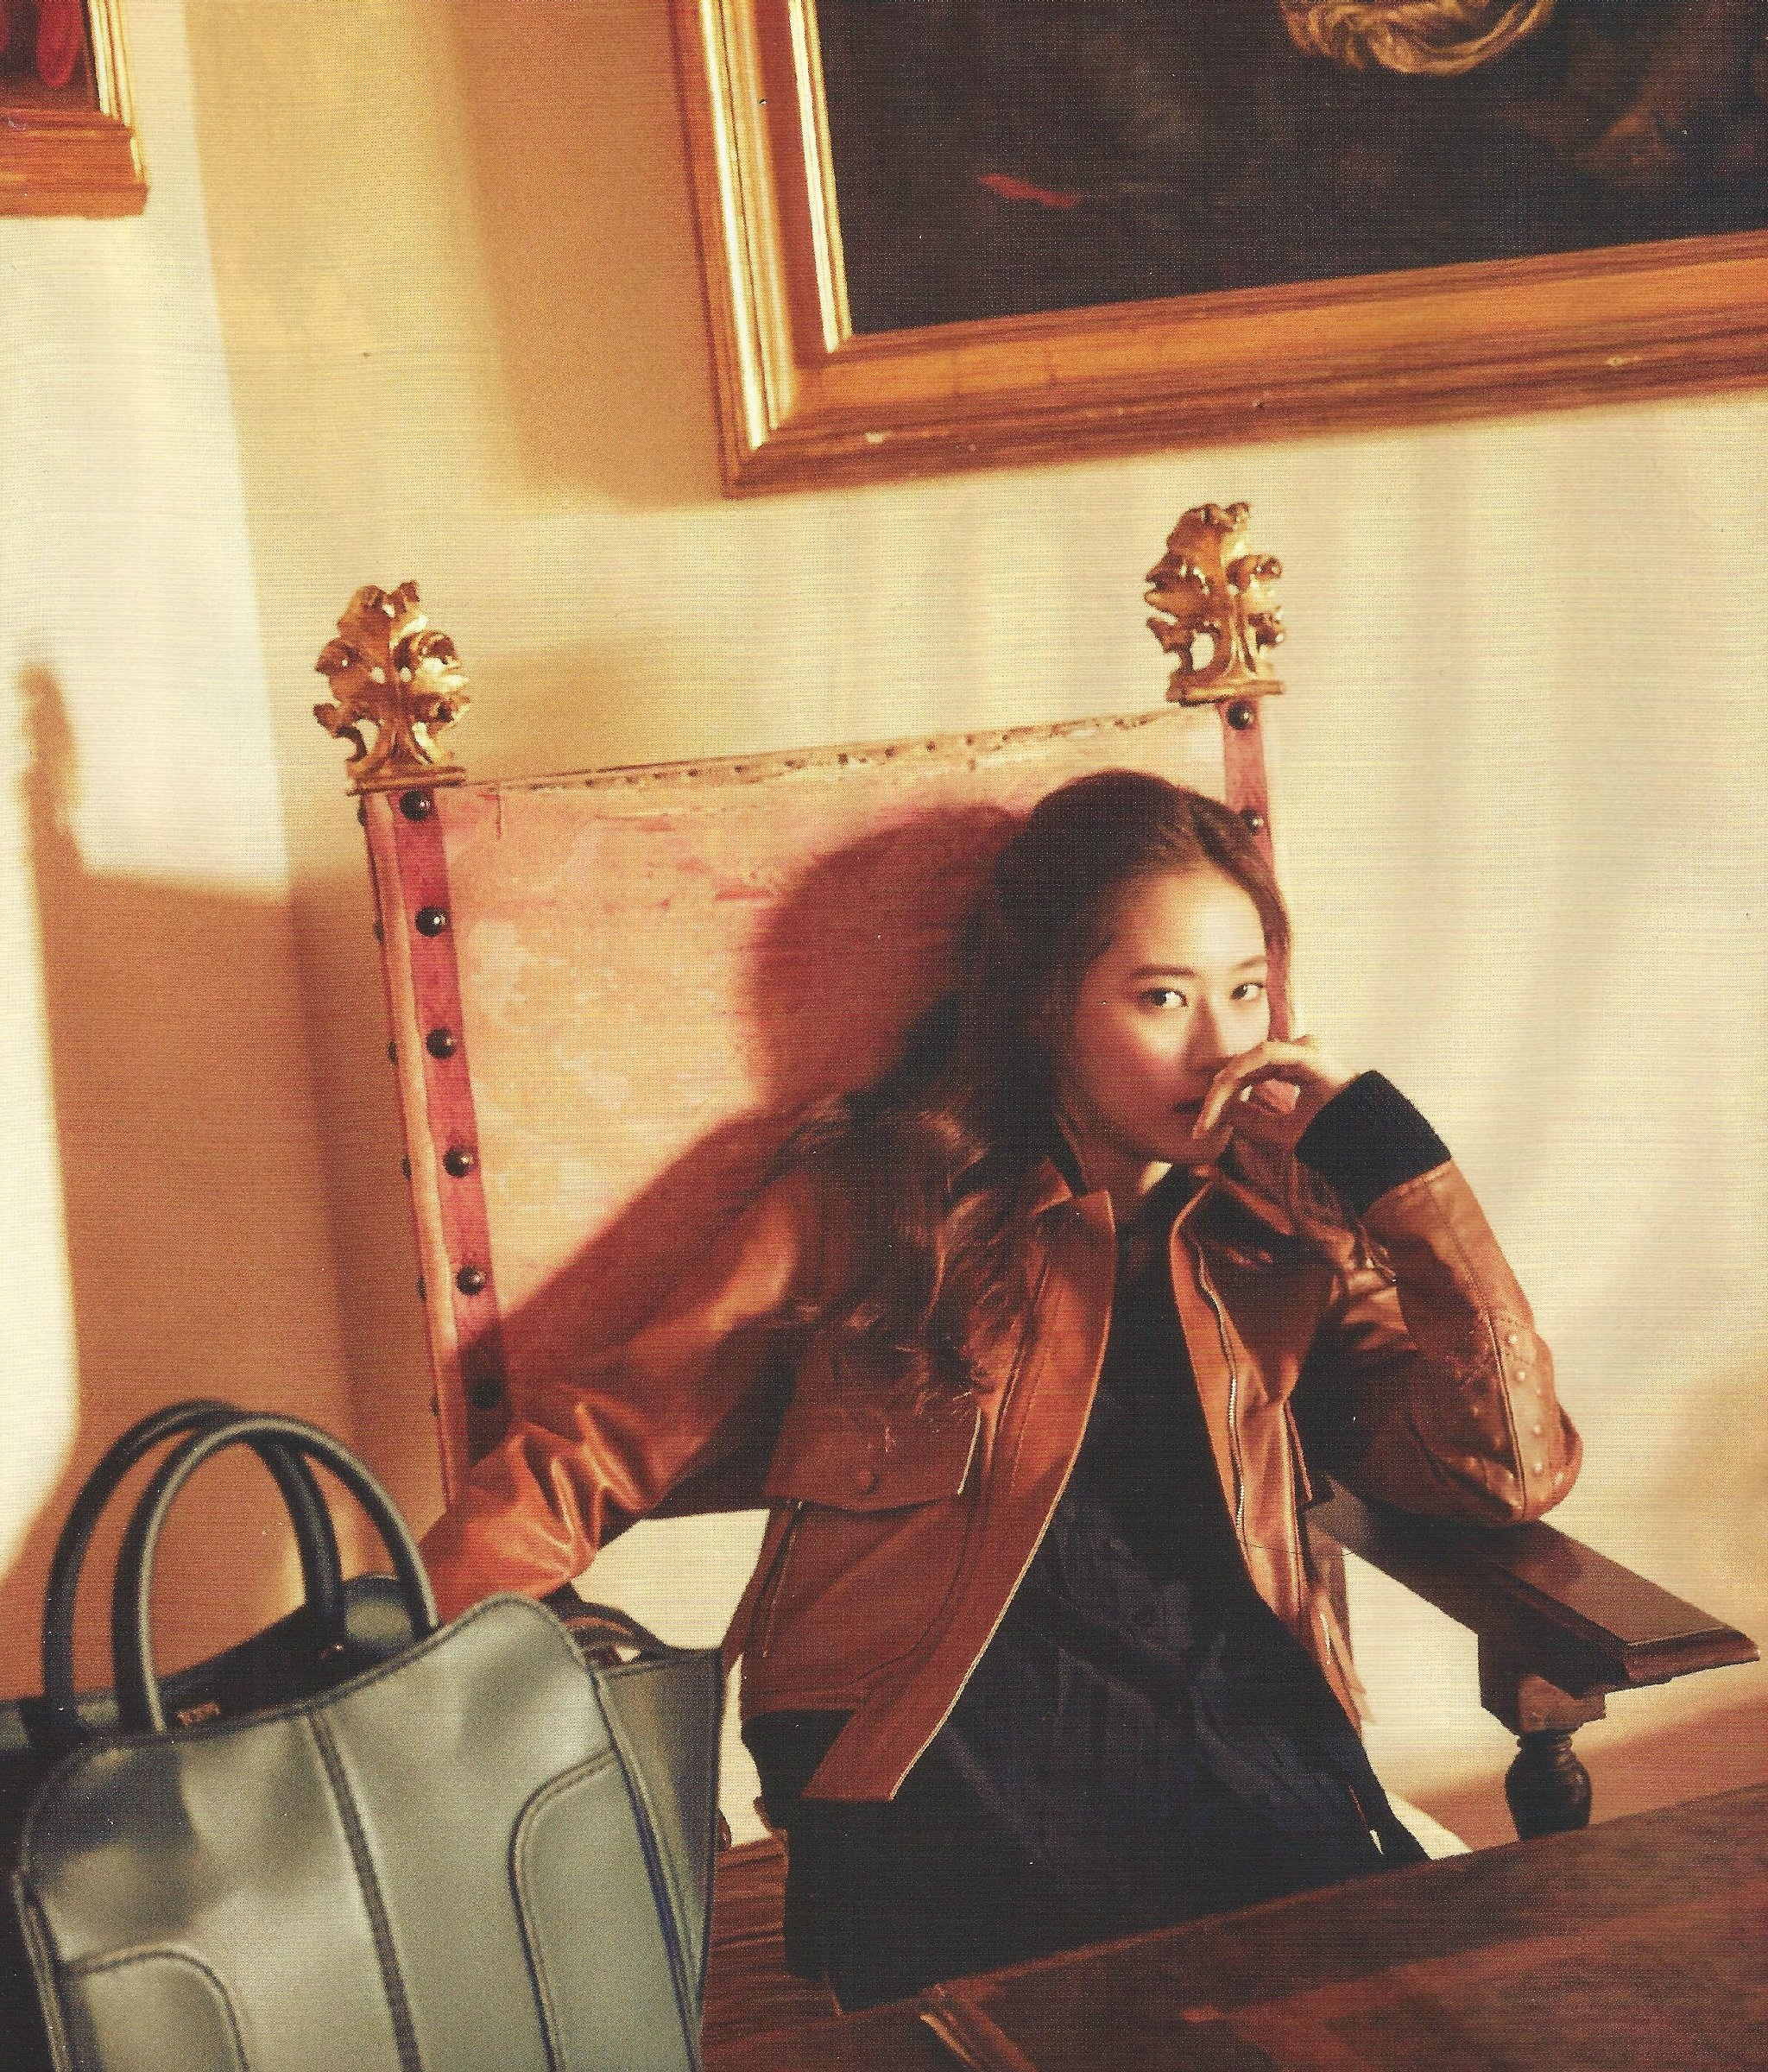face: (1071, 857, 1285, 1180)
